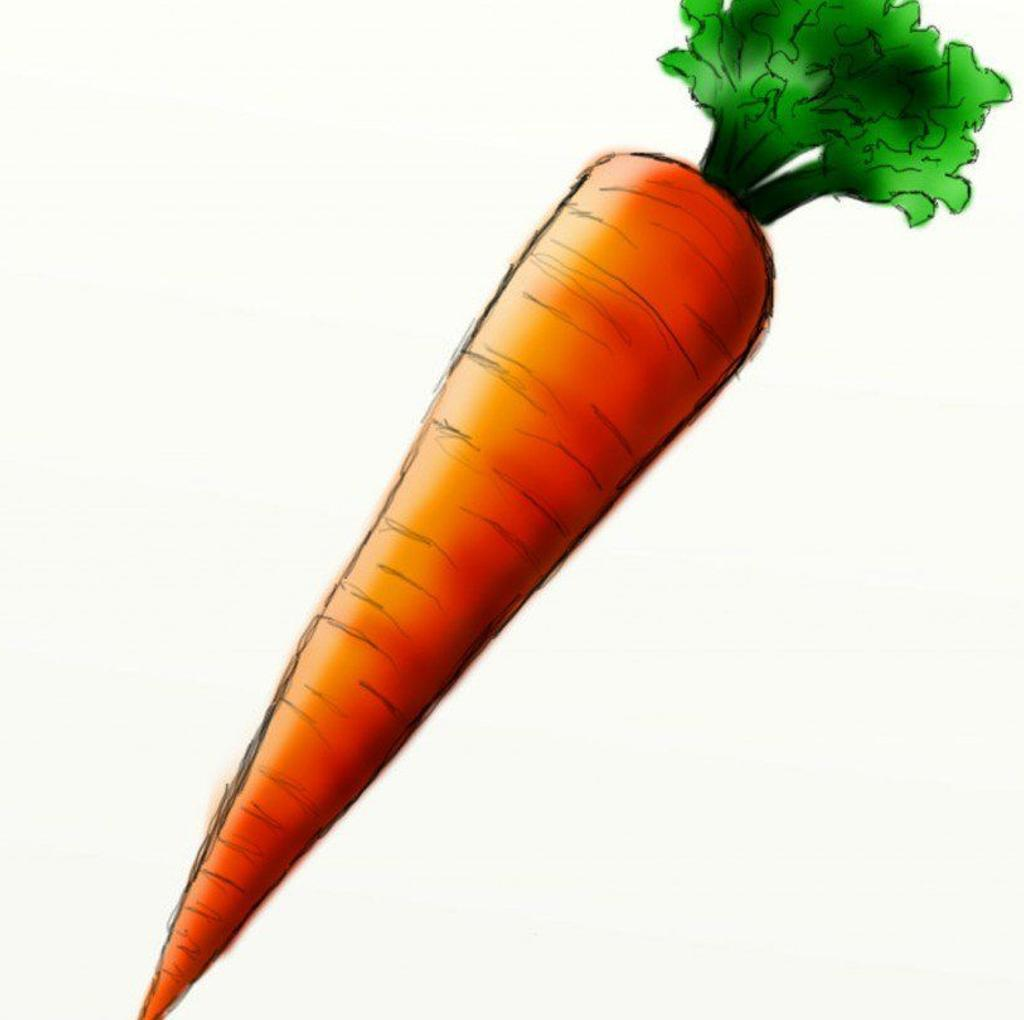carrot: (119, 0, 987, 1020)
